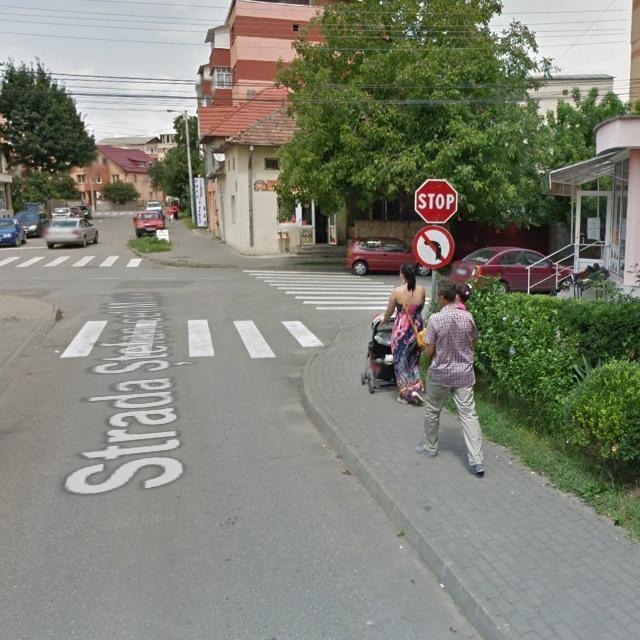prio_stop: (415, 179, 459, 225)
